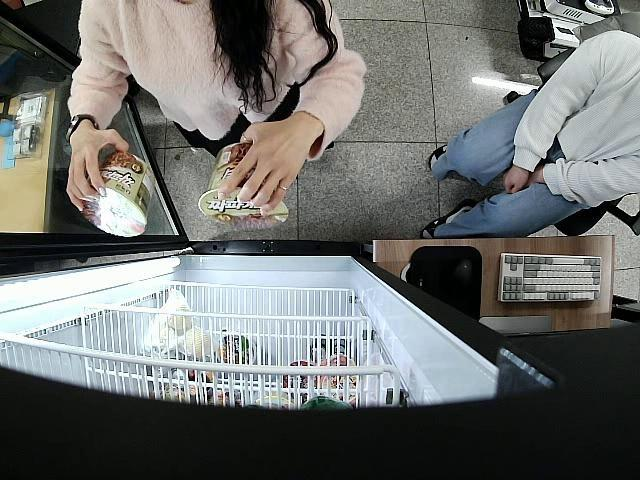03_chapagetti_L: (197, 142, 288, 230), (84, 151, 154, 238)
